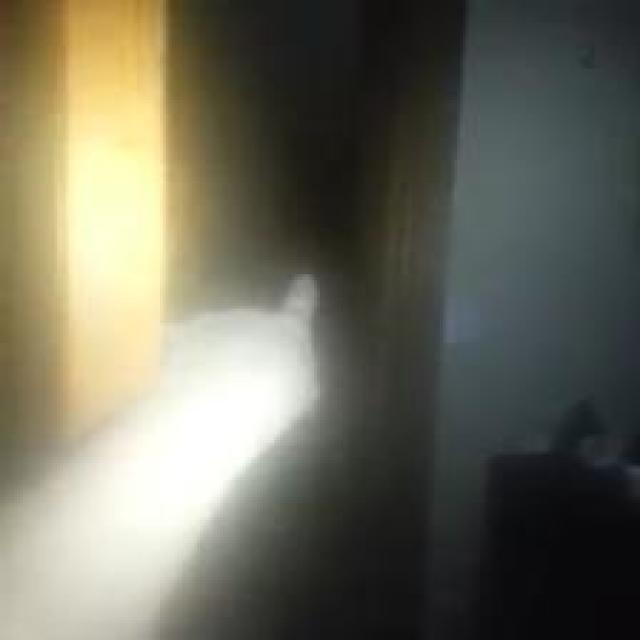other: (42, 356, 246, 568)
